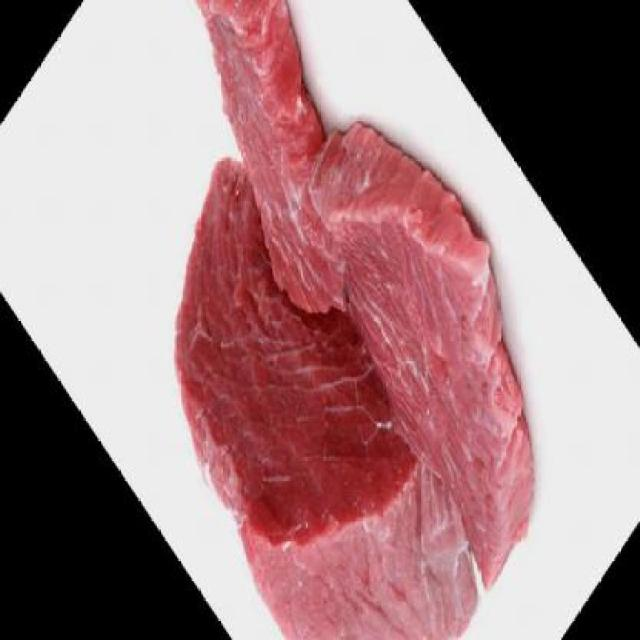beaf: (170, 5, 543, 640)
